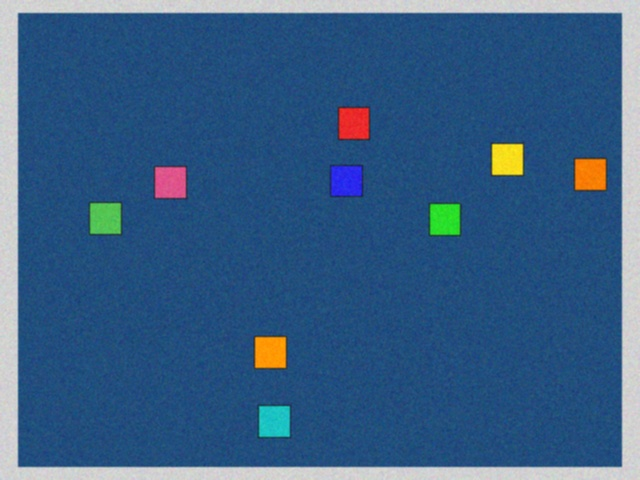block: (561, 159, 606, 193), (482, 143, 523, 179), (258, 396, 292, 437), (89, 203, 132, 235), (155, 166, 194, 201), (254, 331, 288, 368), (337, 108, 370, 145), (423, 204, 461, 236), (330, 165, 362, 199)
